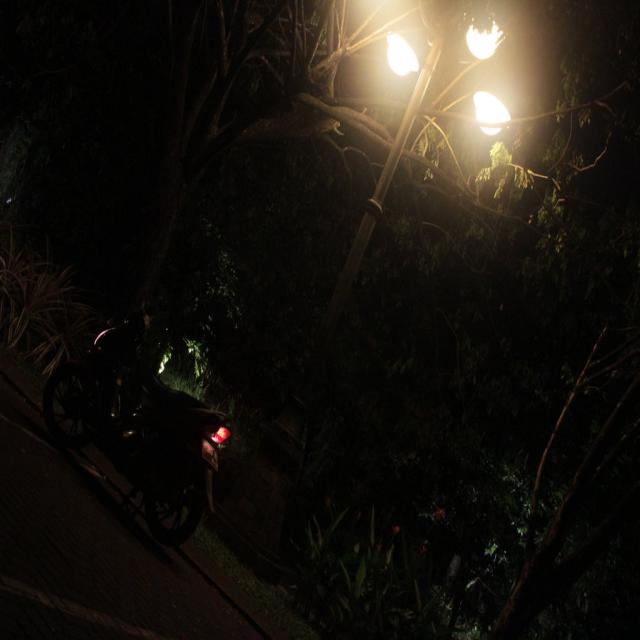Motorbike: (55, 280, 219, 542)
